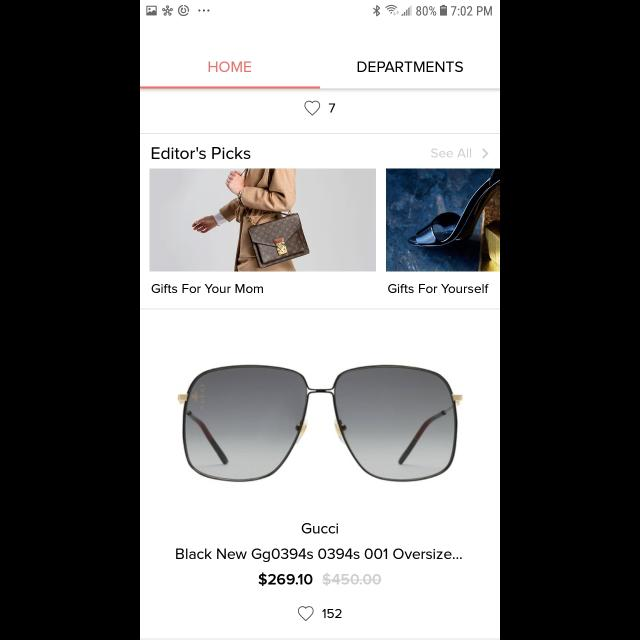icon: (298, 606, 314, 622), (304, 100, 320, 116), (482, 149, 488, 159)
image: (178, 364, 462, 482), (150, 168, 376, 272), (386, 168, 500, 272)
text: (176, 548, 462, 562), (258, 572, 382, 586), (152, 147, 252, 159), (152, 283, 264, 293), (357, 62, 463, 72), (388, 284, 488, 294), (208, 62, 252, 72), (302, 522, 338, 534), (432, 148, 472, 158), (322, 609, 342, 619), (328, 104, 336, 112)
uppertaskbar: (140, 1, 500, 18)
